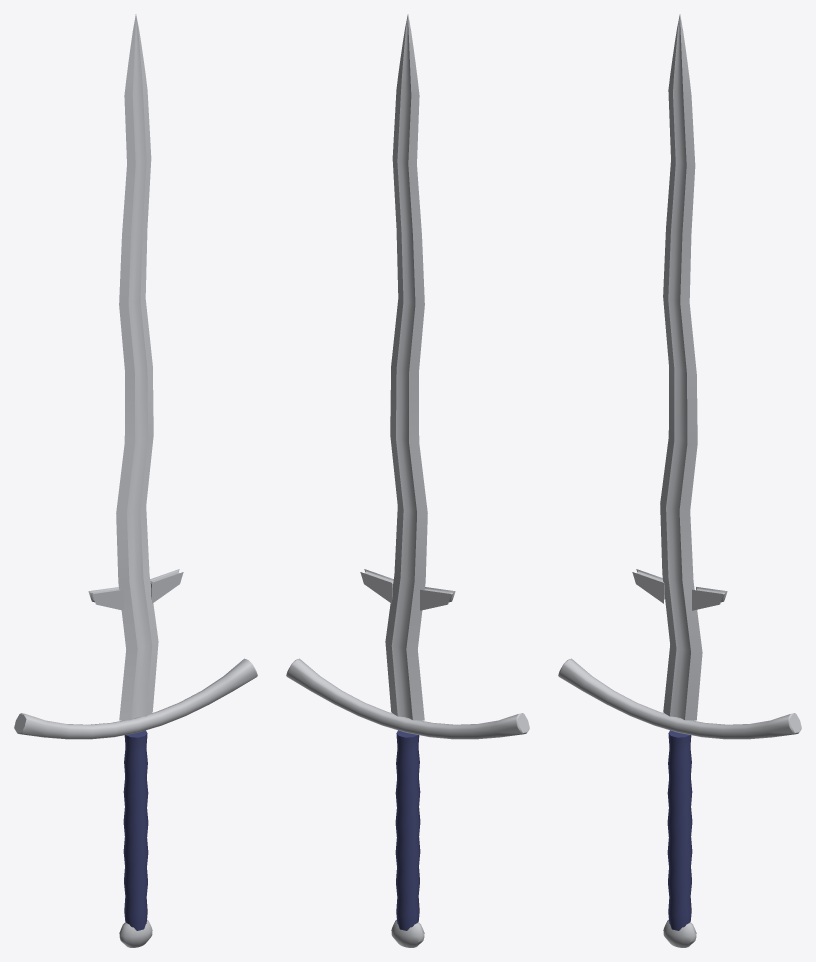
Rendered from wavecrest_flamberge.glb.
The picture shows the model from 3 angles, left to right: view 1: azimuth 30°, elevation 25°; view 2: azimuth 150°, elevation 25°; view 3: azimuth 330°, elevation 25°; orthographic projection.
Visible parts, largest first — view 1: wavecrest_flamberge; view 2: wavecrest_flamberge; view 3: wavecrest_flamberge.
Boxes of the visible parts, x1=… form: wavecrest_flamberge: x1=14, y1=14, x2=257, y2=947; wavecrest_flamberge: x1=286, y1=14, x2=529, y2=947; wavecrest_flamberge: x1=558, y1=14, x2=801, y2=947.
Bounding box in the file's own units: 0.4118 × 1.54 × 0.0356.
